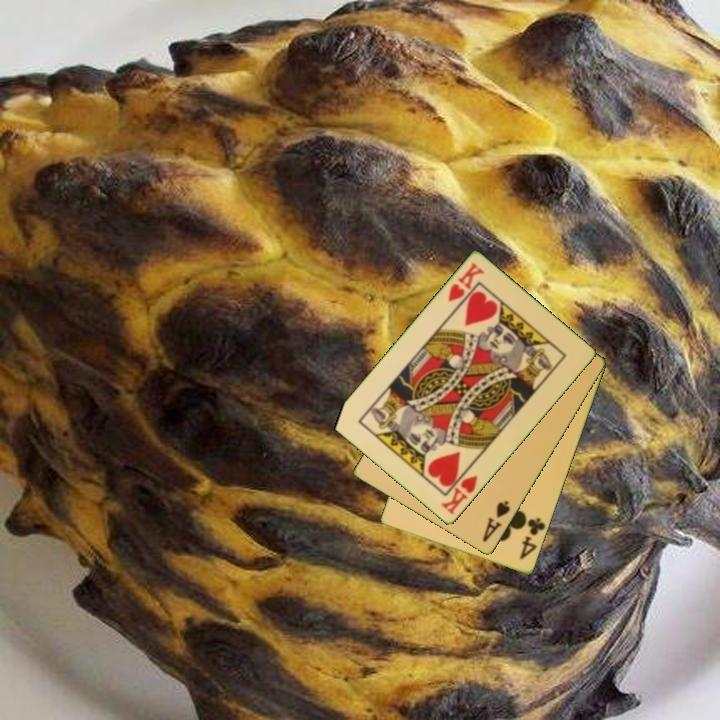4c: (516, 515, 548, 563)
As: (479, 497, 513, 545)
Kh: (437, 464, 481, 518), (444, 259, 488, 305)
